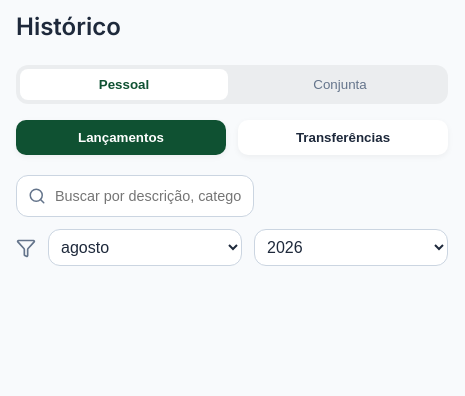
Test case: Historico Component › deve filtrar transações por texto corretamente ao digitar "merc"
The width and height of the screenshot is (465, 396).
Step 1. Type "merc" into the field with placeholder "Buscar por descrição, categoria, conta, valor..." → {"x": 135, "y": 196}, box [16, 175, 254, 217]
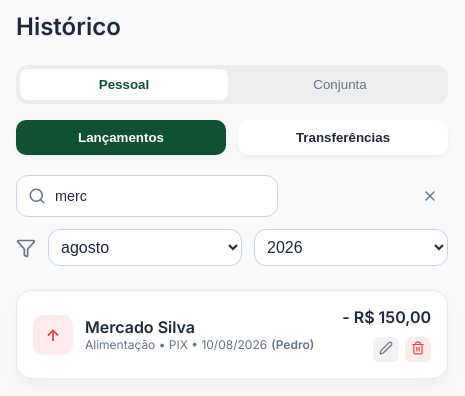
Result: the text "Mercado Silva" is shown at [85, 317, 195, 337]
